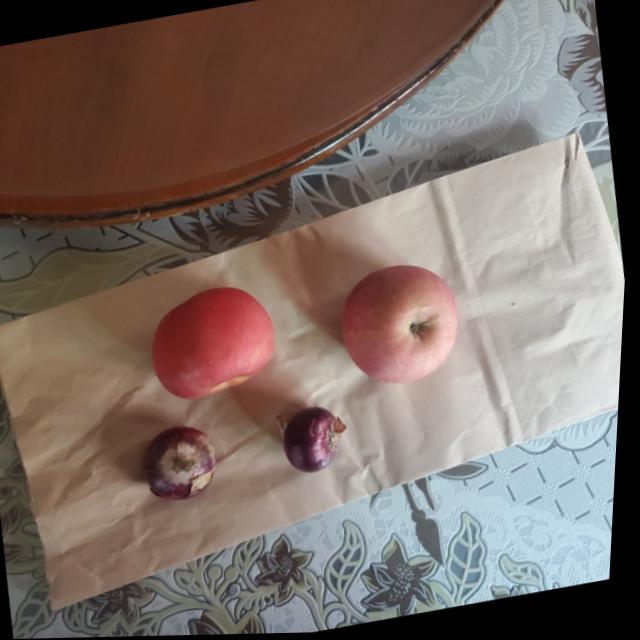apple: (336, 254, 478, 396), (145, 281, 288, 406)
onion: (142, 421, 229, 506), (281, 403, 348, 476)
